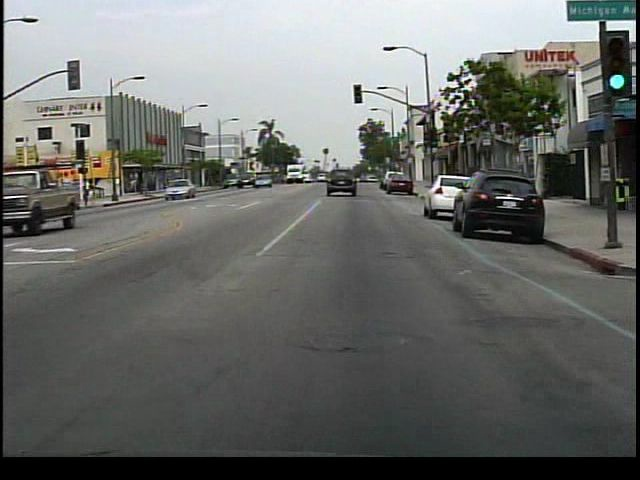person: (79, 180, 98, 208)
